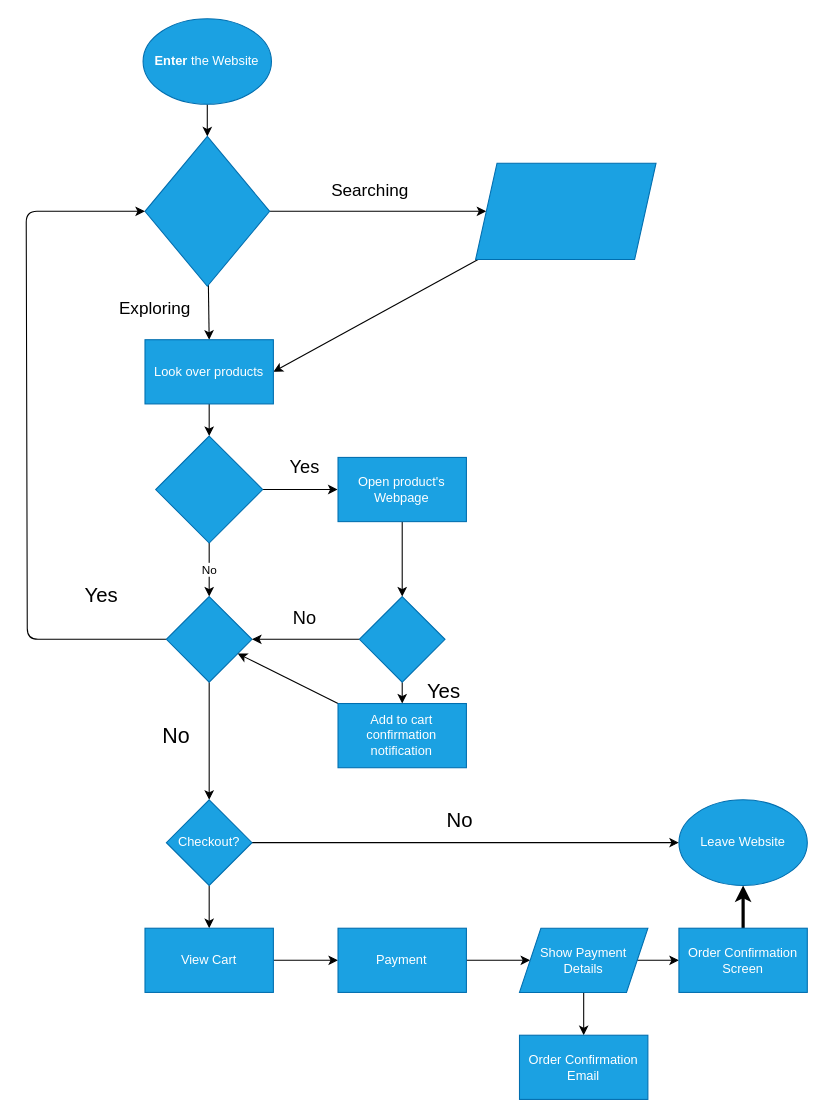
The diagram is 826 pixels wide and 1118 high, and some of its shapes have lost their labels. Each missing label, with the centre of its shape:
"Add to cart?" goes at pixel 401 638.
"Continue Shopping" goes at pixel 208 638.
"Read search input" goes at pixel 565 210.
"Searching or Exploring?" goes at pixel 207 210.
"View Specific Product" goes at pixel 209 489.
